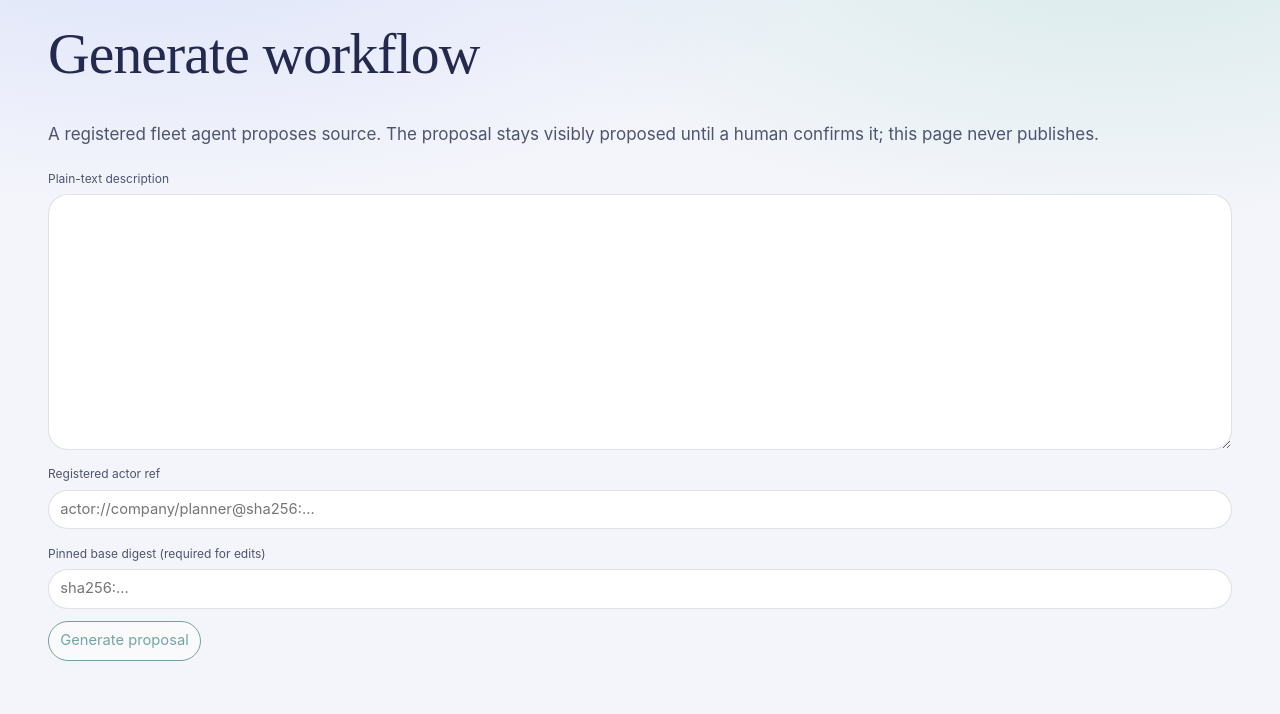
Test: GenerateWorkflow › offers the publish door only once a human has confirmed it
In the text box labelled "Plain-text description": (640, 322) x1=48 y1=194 x2=1232 y2=450, type "sweep open PRs and triage them"
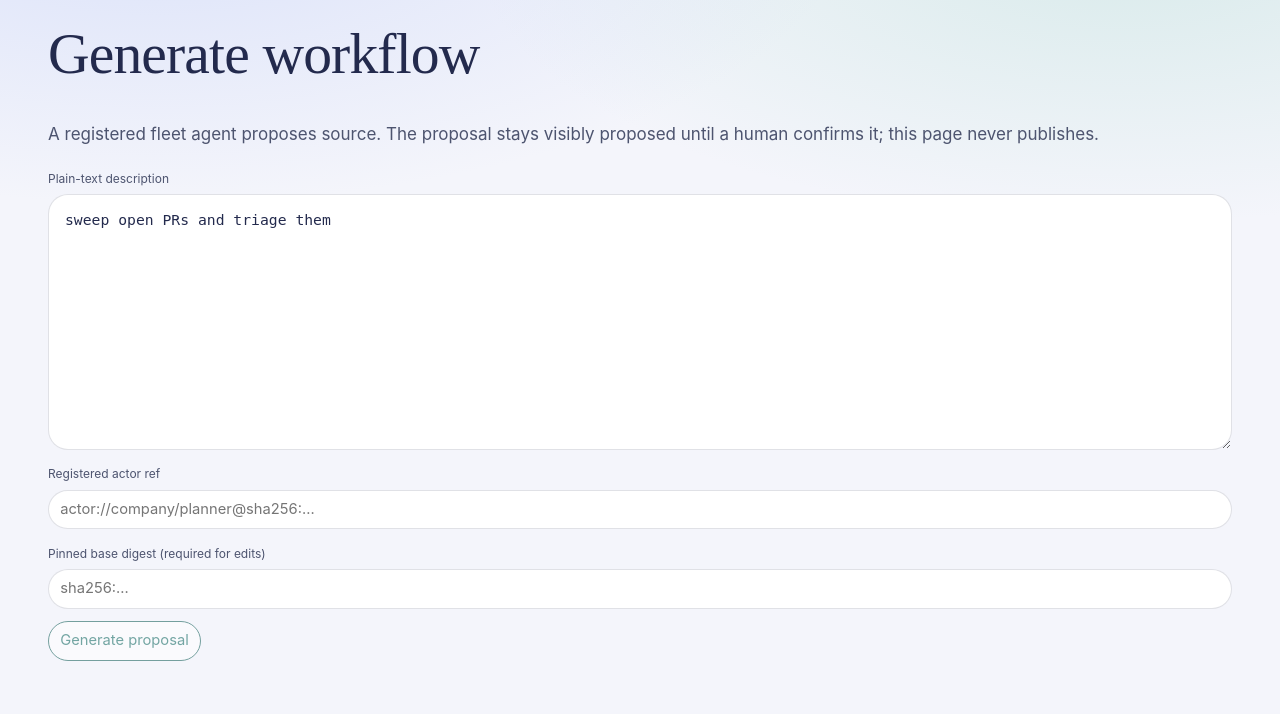
In the field labelled "Registered actor ref": (640, 509) x1=48 y1=490 x2=1232 y2=529, type "actor://company/planner@sha256:aaaa"
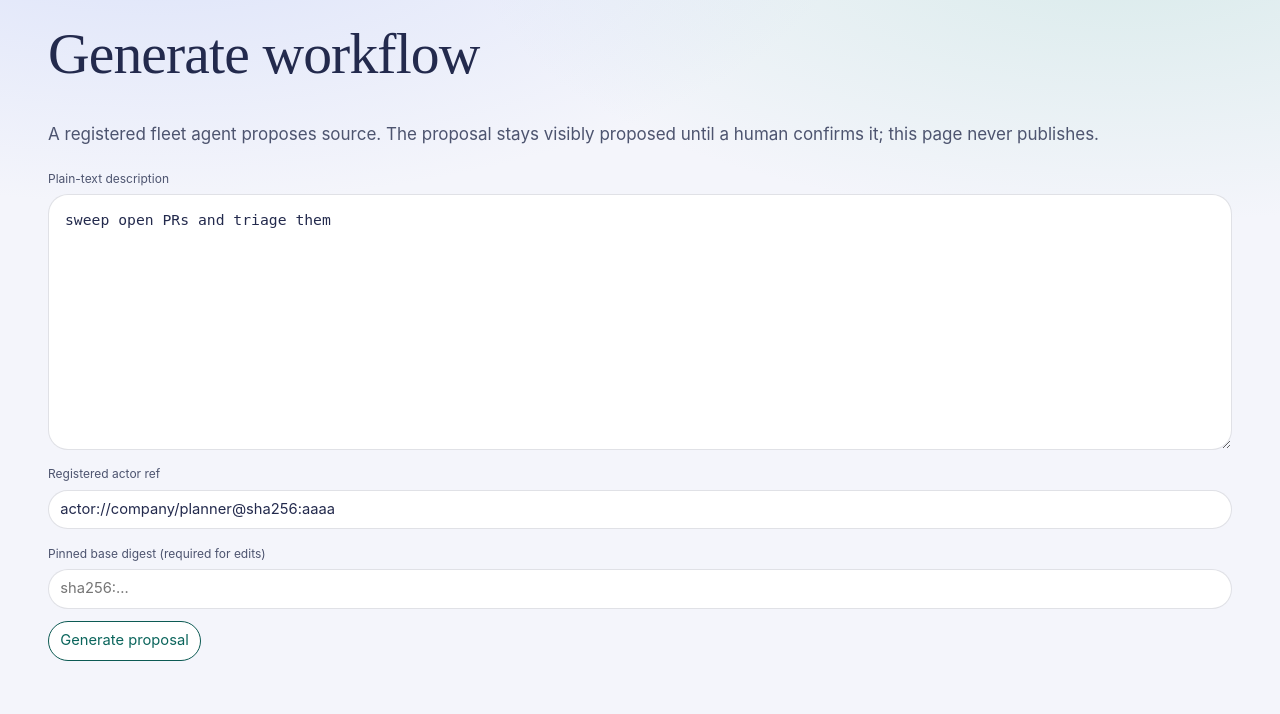
Click the button "Generate proposal": (124, 641) x1=48 y1=621 x2=201 y2=660
(page scrolled)
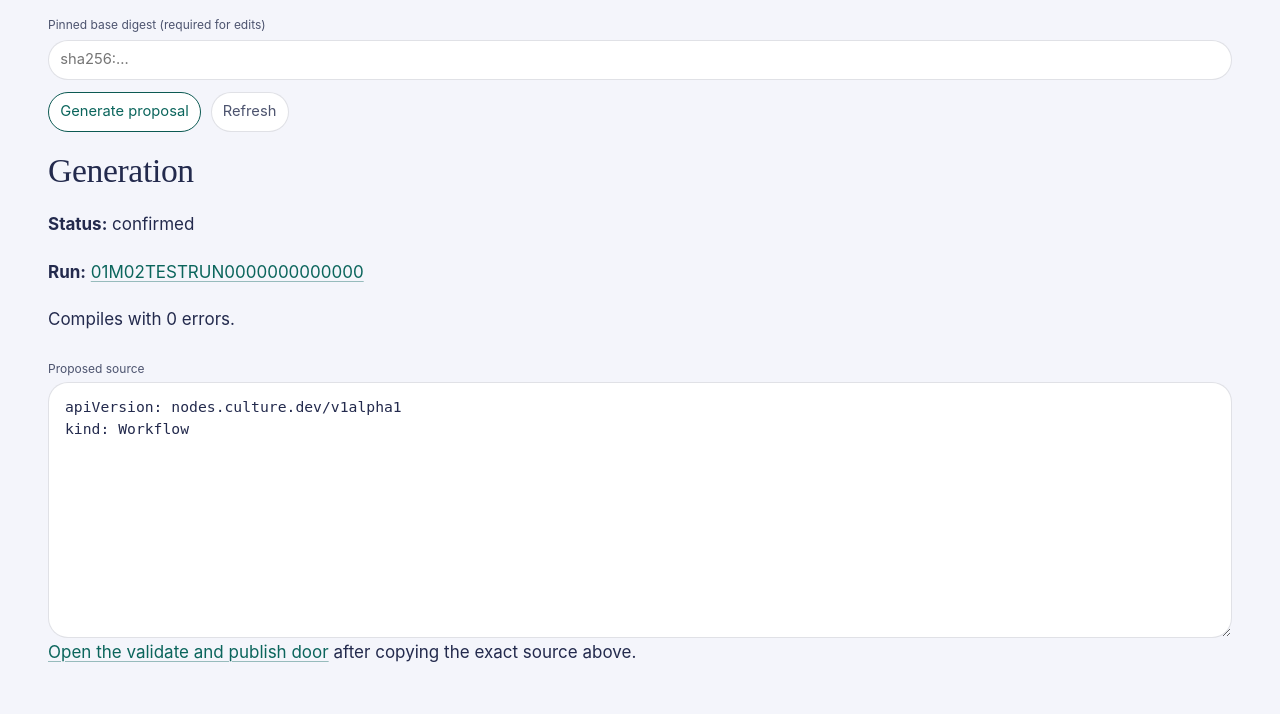
expect the link "Open the validate and publish door" is shown: met, box x1=48 y1=642 x2=329 y2=662
